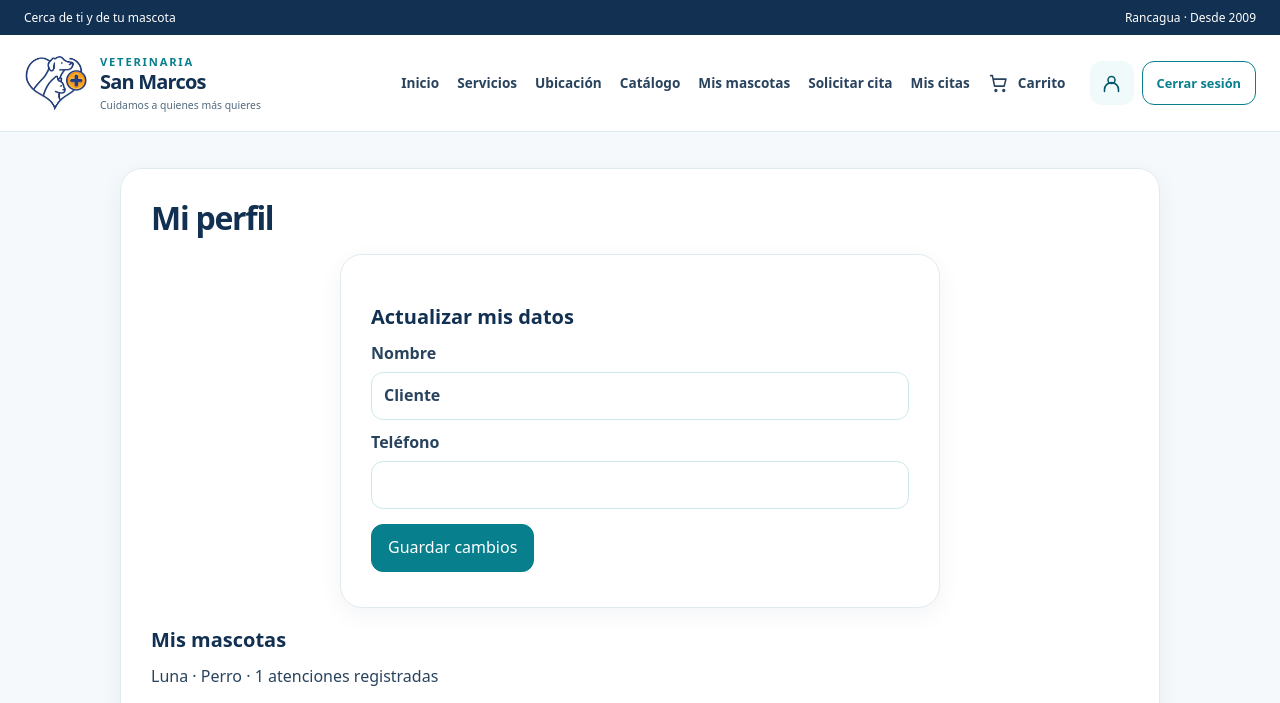
Test: Componentes e interacciones del módulo Daniel › cierra sesión desde el perfil
The width and height of the screenshot is (1280, 703).
Click the button "Cerrar sesión".
click(1199, 83)  # box [1142, 61, 1256, 105]
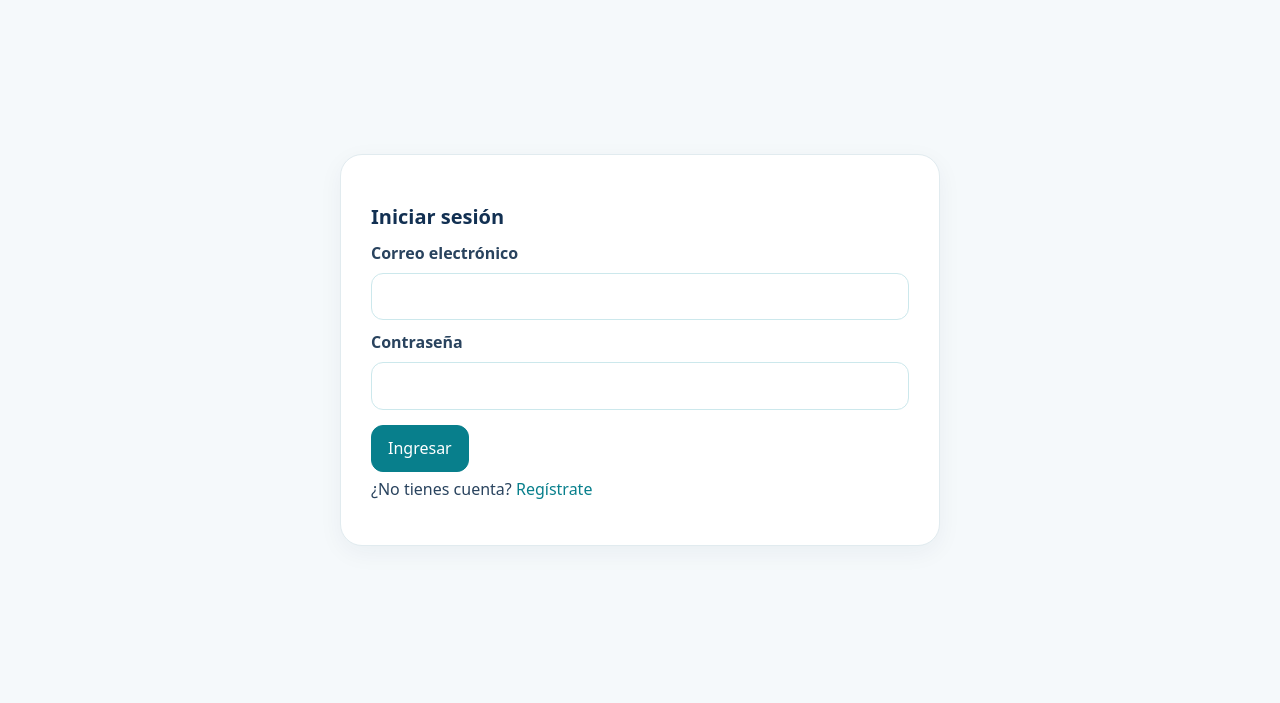
Result: the heading "Iniciar sesión" is shown at [371, 203, 504, 230]
